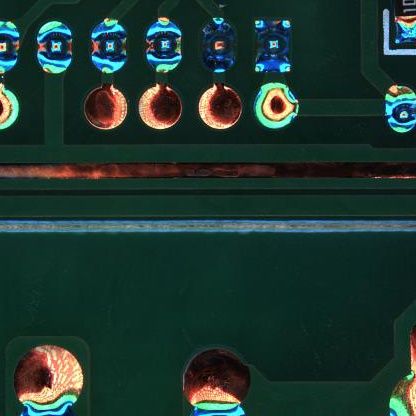spot: (251, 17, 293, 75), (145, 14, 185, 72), (198, 16, 237, 75), (88, 17, 128, 74), (33, 21, 73, 76), (384, 84, 416, 134)
